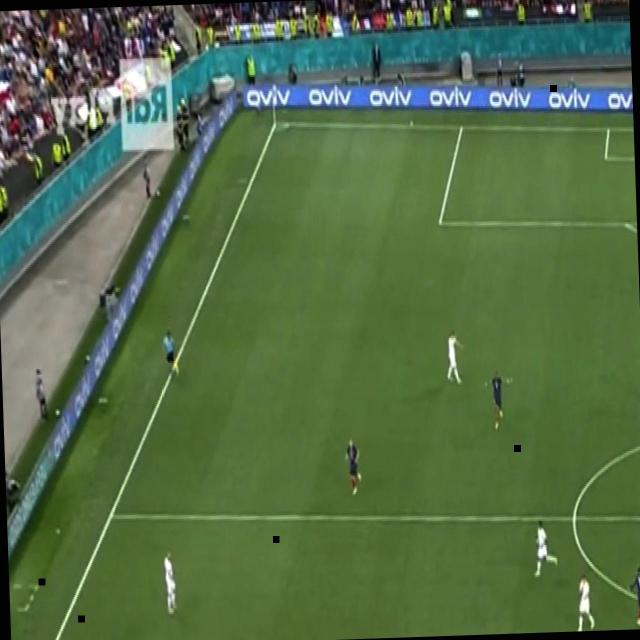ball: (154, 186, 162, 198), (54, 406, 61, 418)
player-white: (482, 366, 514, 432), (532, 518, 559, 579), (573, 573, 597, 631), (444, 330, 467, 386), (342, 438, 362, 498), (163, 548, 179, 616), (160, 330, 180, 380), (626, 563, 640, 629)
